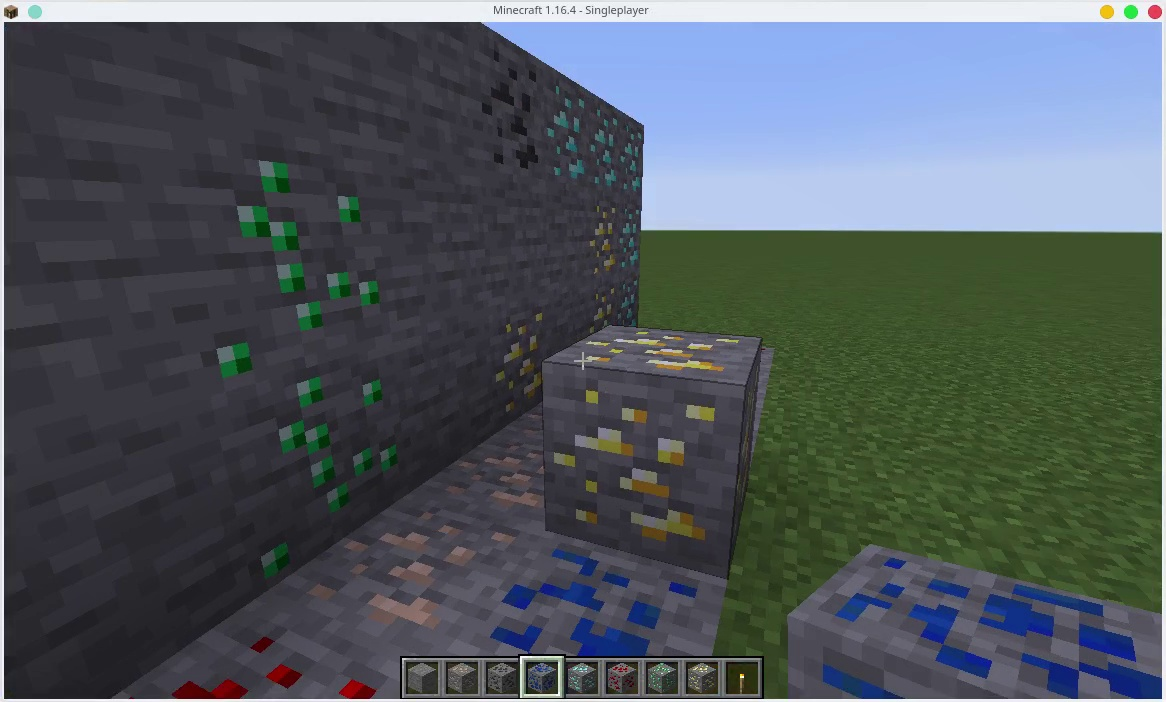gold: (564, 329, 770, 562), (498, 307, 551, 399), (589, 204, 624, 272), (586, 291, 620, 324), (686, 663, 720, 695)
